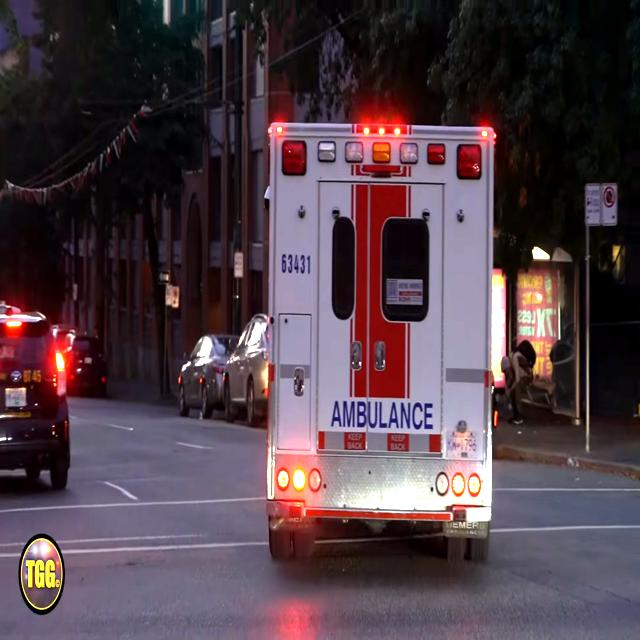emergency-vehicles: (249, 102, 503, 581)
